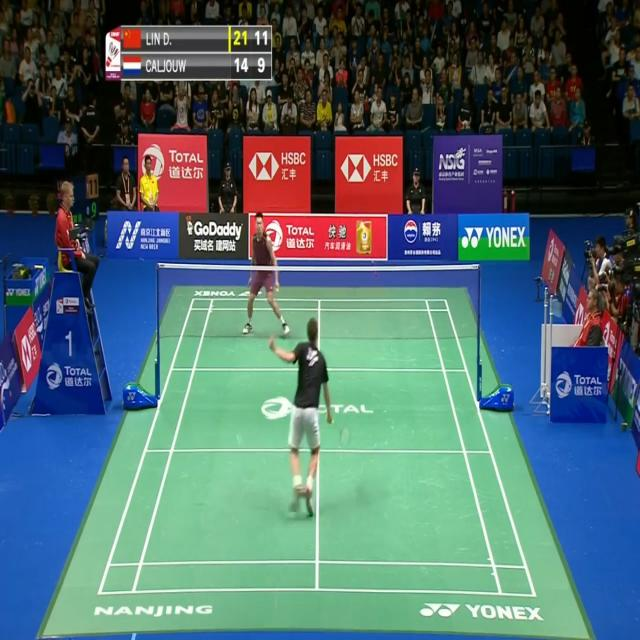Player1: (266, 310, 353, 527)
Player2: (240, 208, 294, 341)
